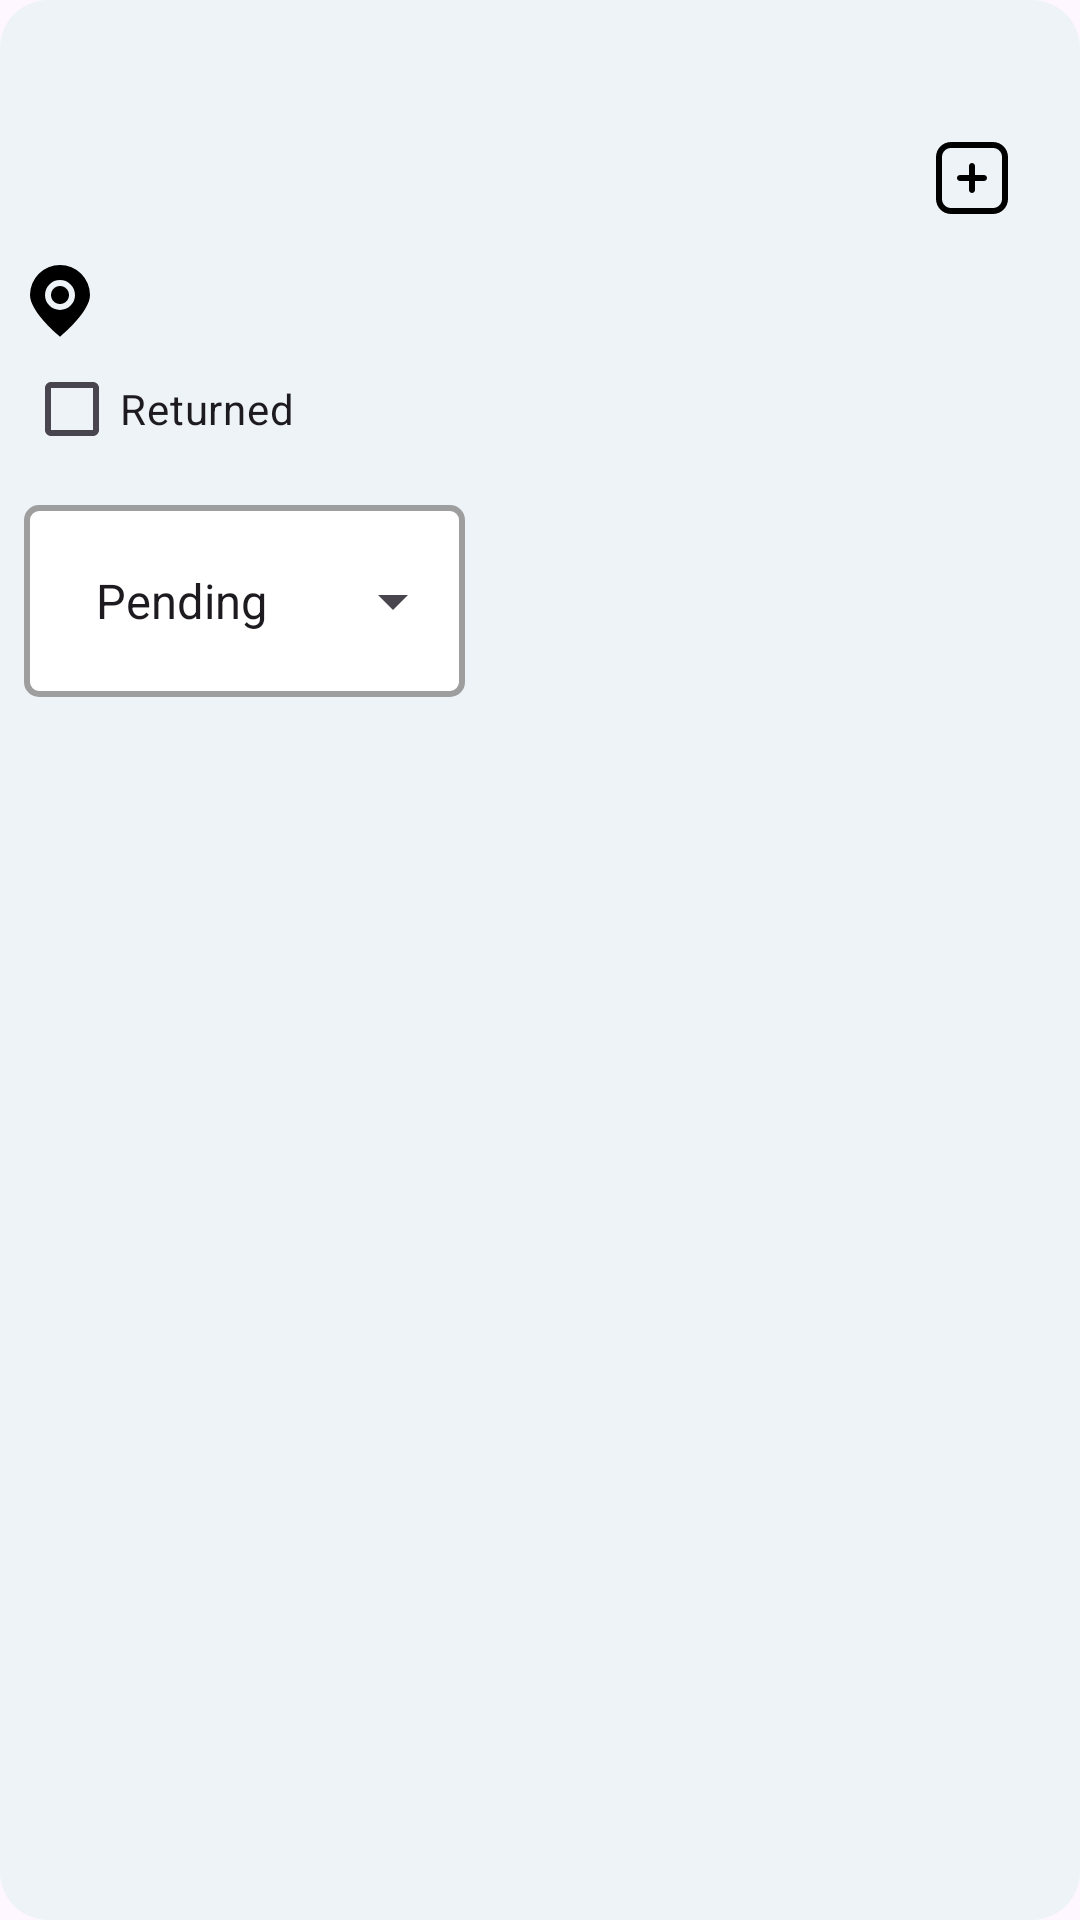

Screen size 1080px x 1920px. Icon name, then its box in pixels as (x1, y1, x2, y2):
plus: (936, 142, 1008, 214)
